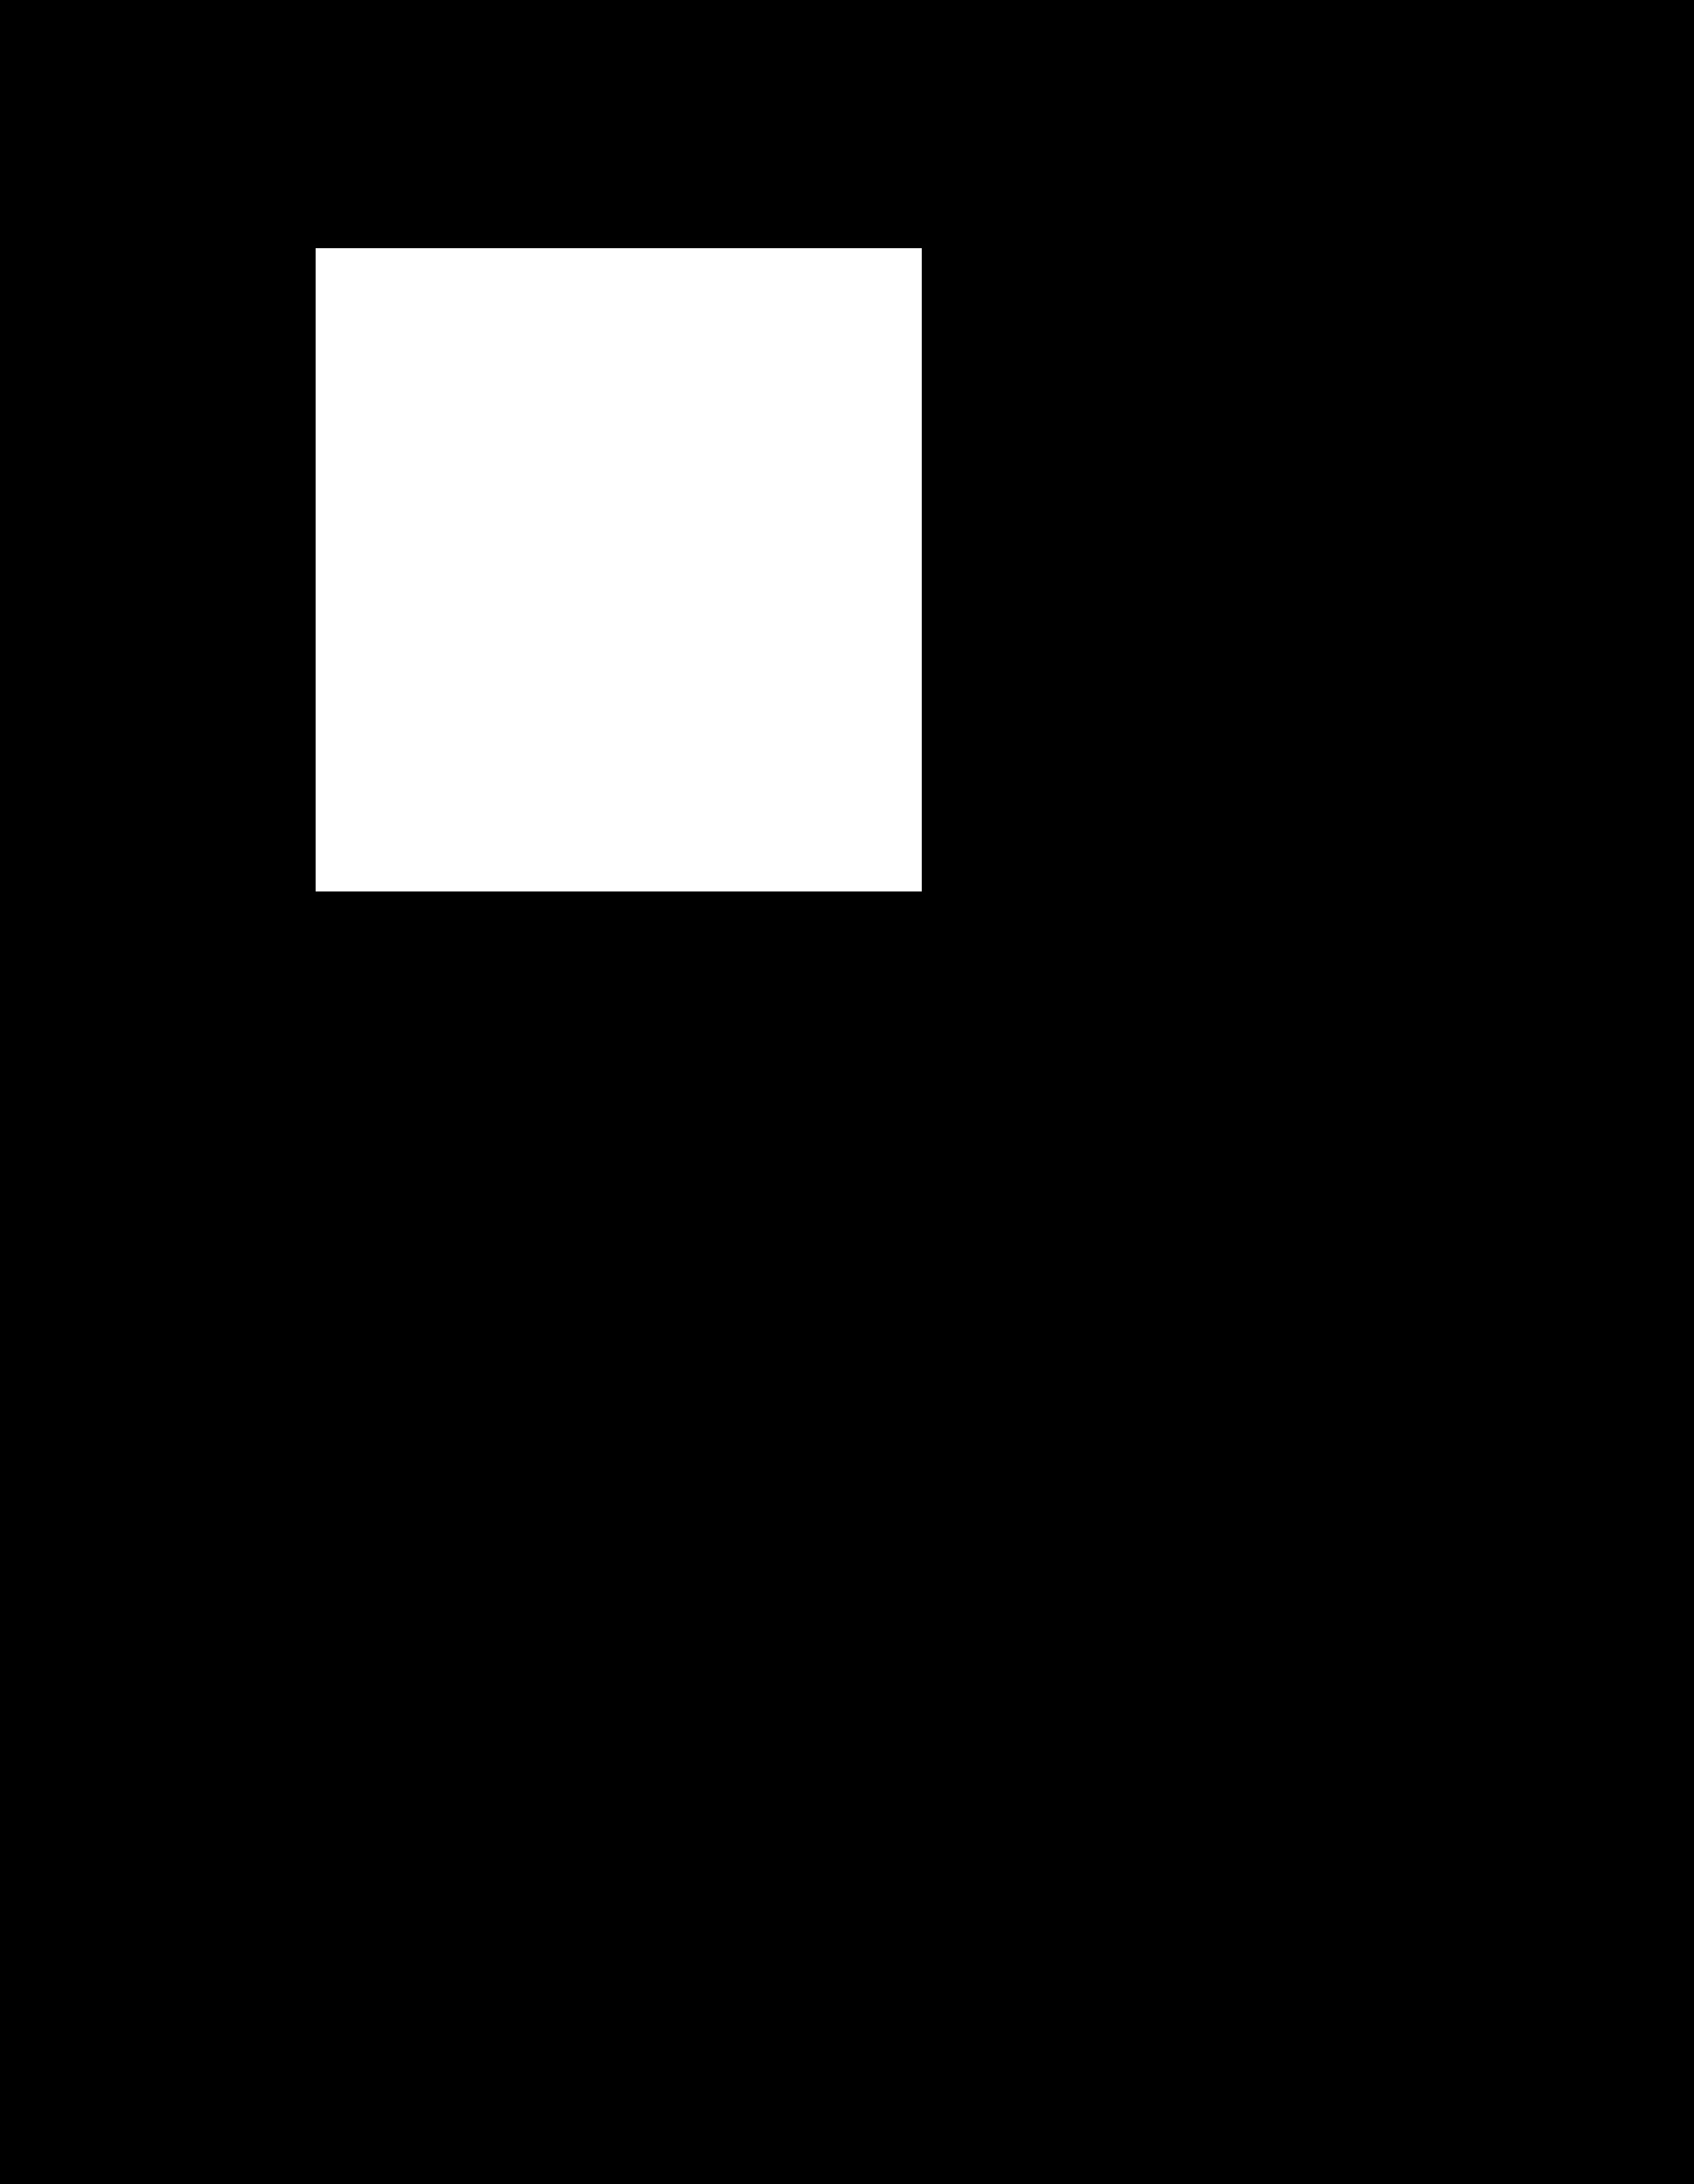table: (315, 248, 921, 892)
